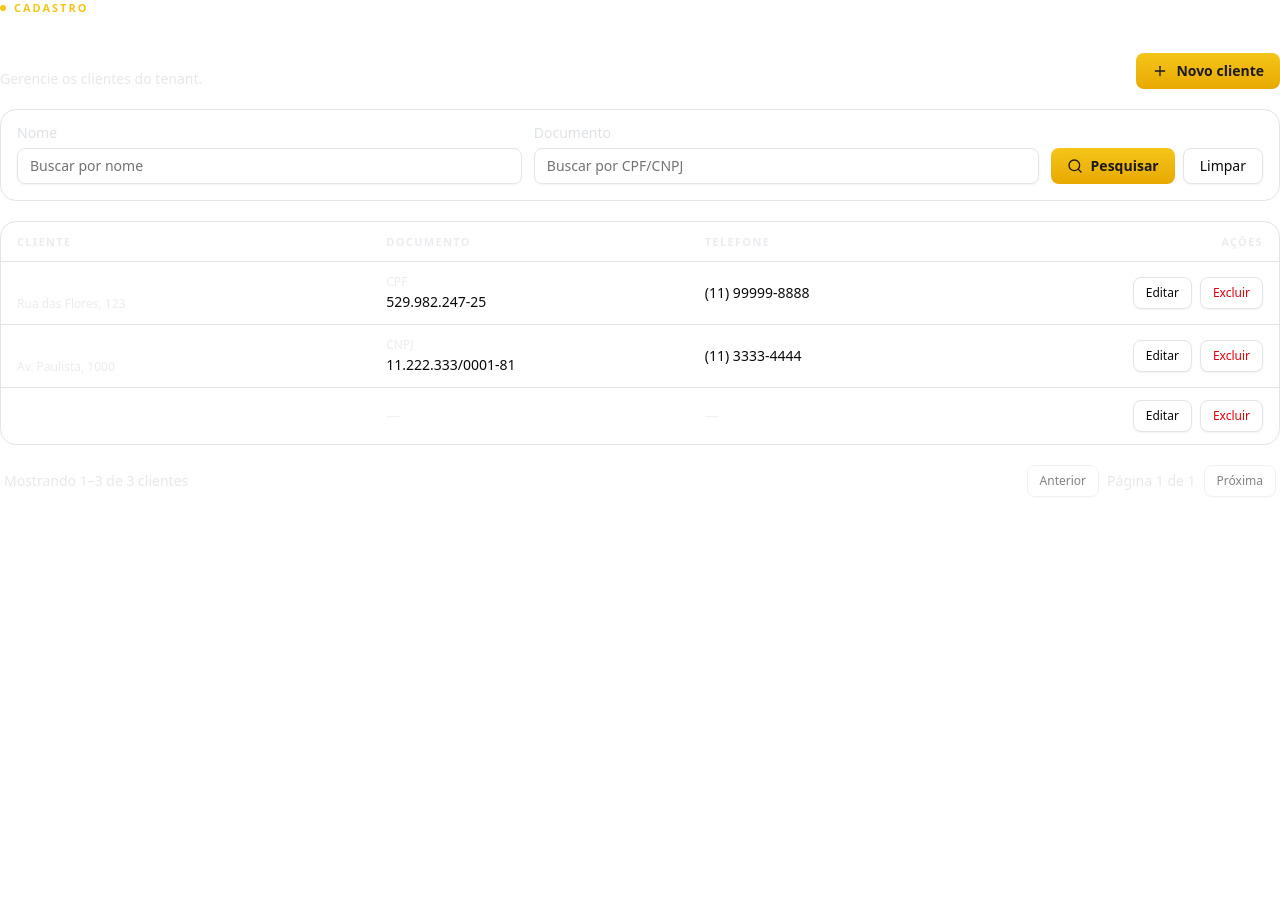
Test case: CustomersScreen › cria um cliente somente com nome
Click the button "Novo cliente". click: (1208, 70)
box: [1136,52,1279,88]
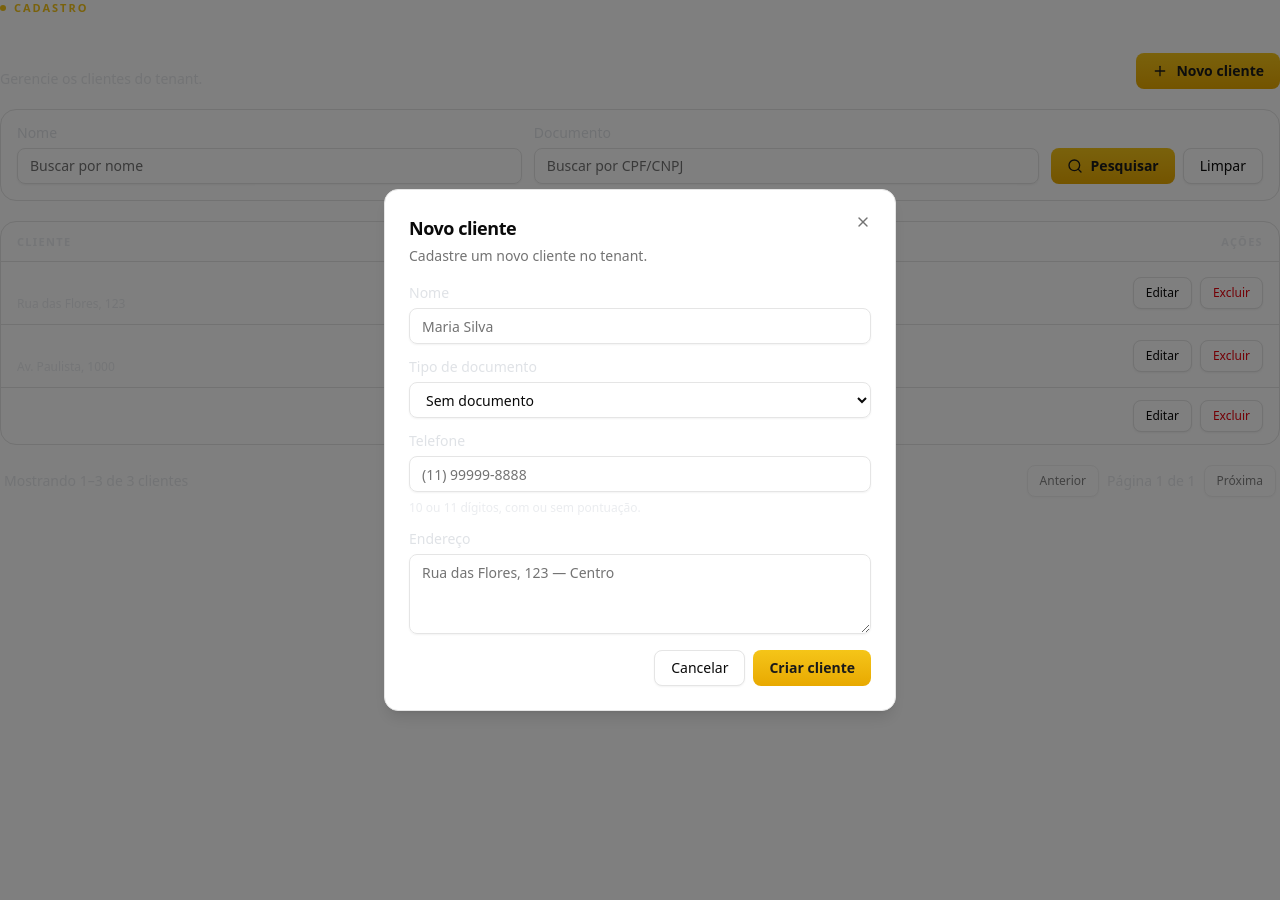
Type " Ana " into the field labelled "Nome". click: (640, 326)
box: [409,308,871,344]
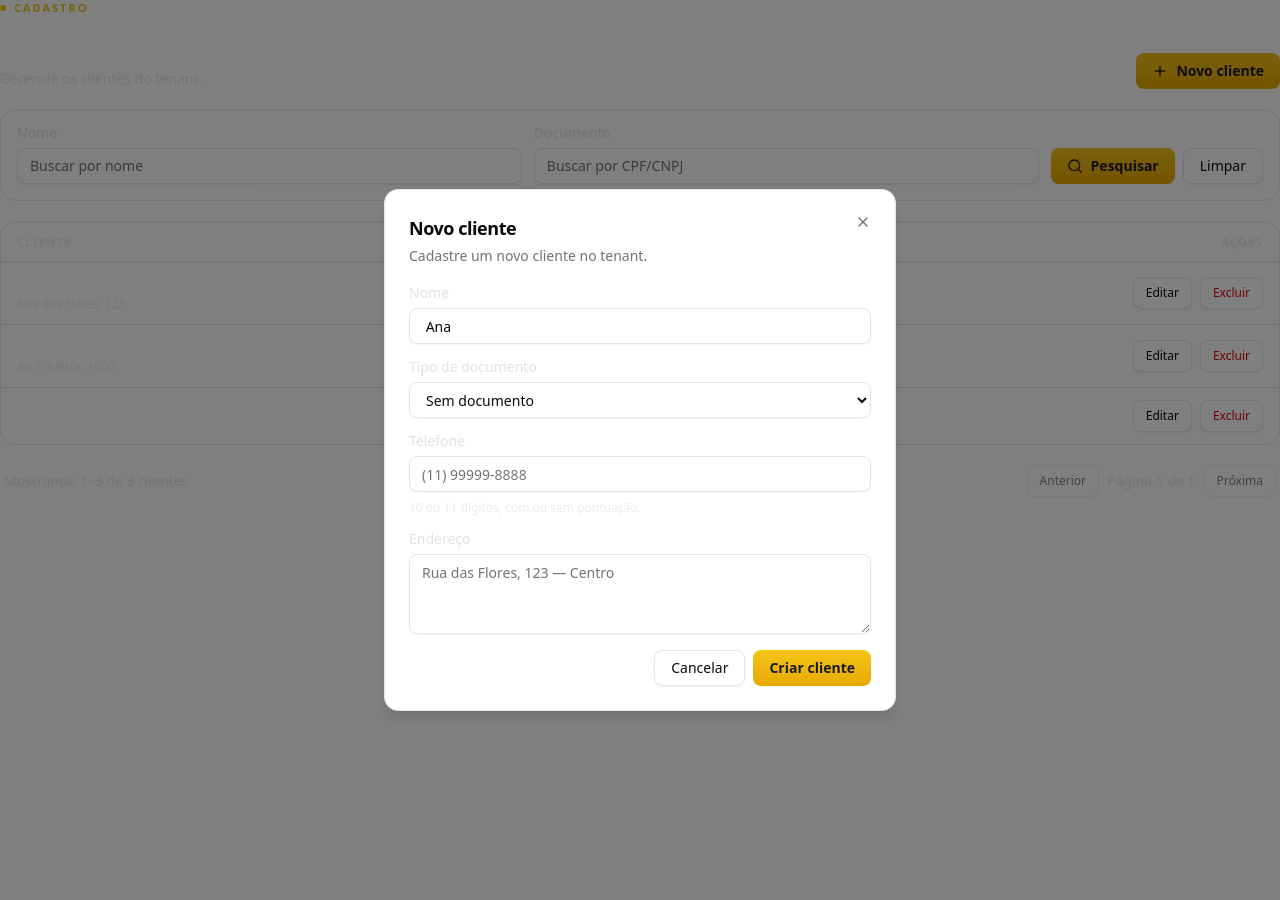
Click the button "Criar cliente". click: (812, 668)
box: [753,650,871,686]
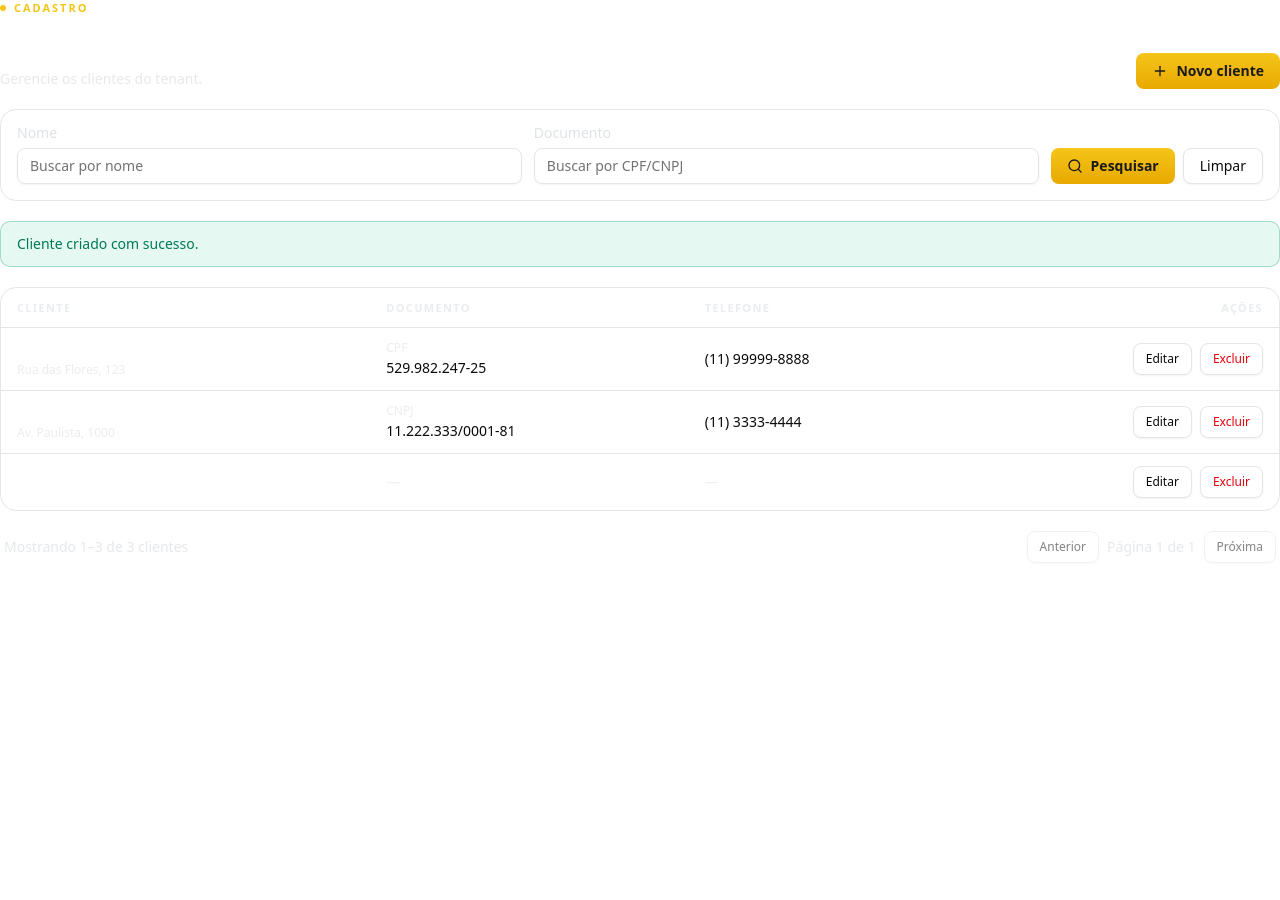
Expected: the text "Cliente criado com sucesso." is shown, [0,220,1279,266]
